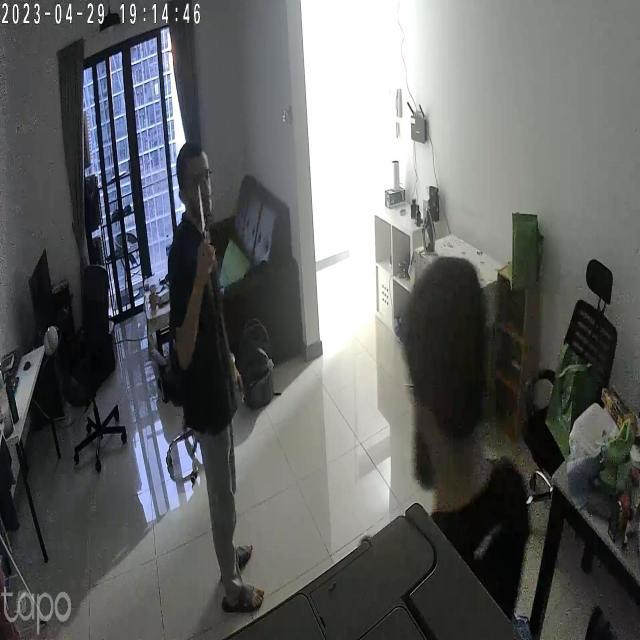Knife: (188, 185, 218, 251)
